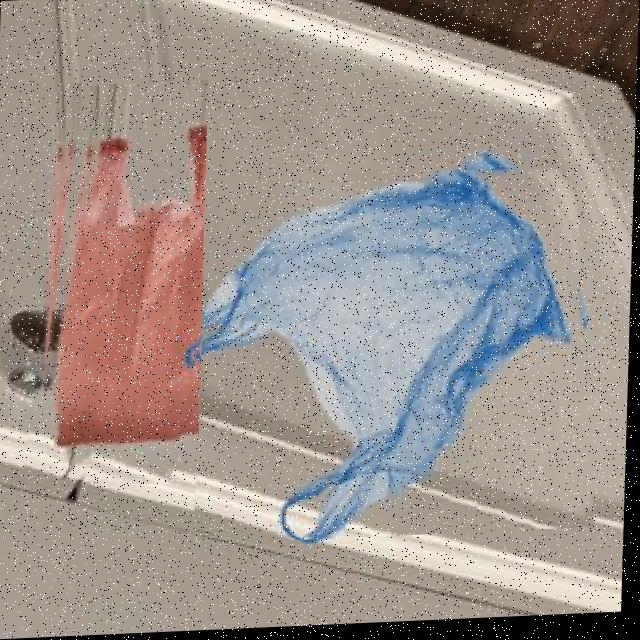litter: (198, 158, 607, 546), (34, 81, 208, 487)
